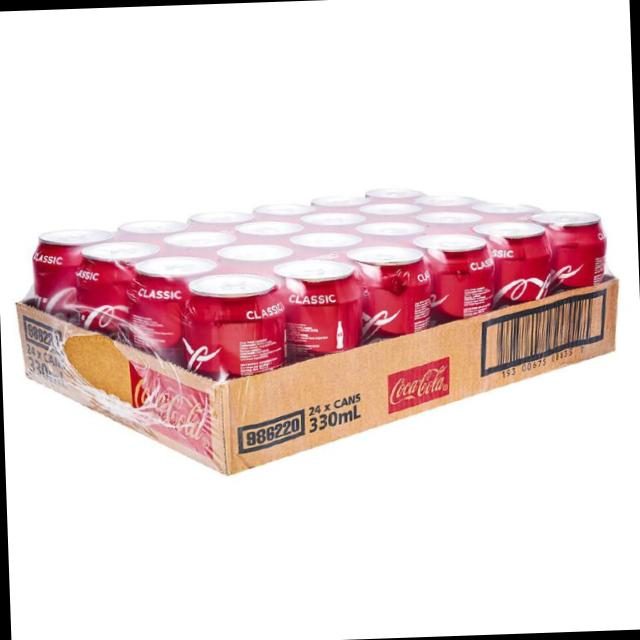cocacola: (182, 268, 295, 381), (20, 220, 109, 350), (121, 247, 208, 375), (68, 236, 147, 375), (346, 238, 441, 346), (278, 255, 362, 356), (538, 199, 622, 290), (421, 227, 500, 322), (478, 216, 556, 306)
